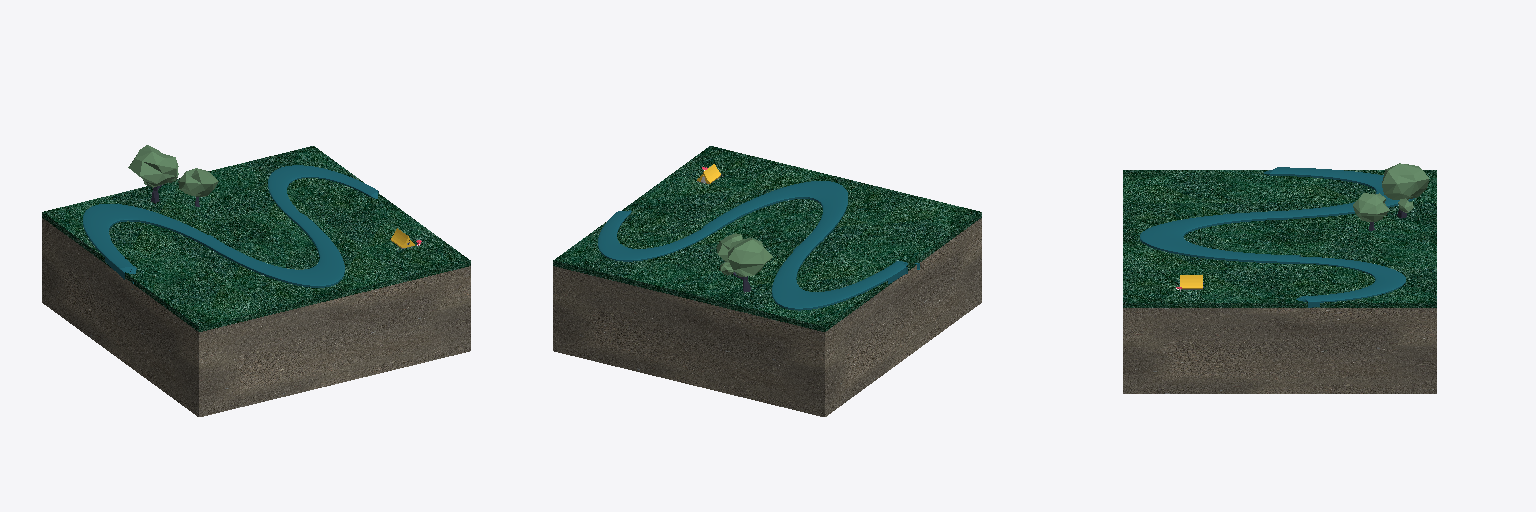
3 renders of one model, left to right at view 1: azimuth 30°, elevation 25°; view 2: azimuth 150°, elevation 25°; view 3: azimuth 270°, elevation 25°, orthographic.
Parts seen in each view (by area): view 1: 001_Box, 000_grass, 002_Tube_-_baked_1_1_&_Tube_-_baked_1_&_Tube_-_baked_2, 015_Crowns, 017_Crown; view 2: 001_Box, 000_grass, 002_Tube_-_baked_1_1_&_Tube_-_baked_1_&_Tube_-_baked_2, 015_Crowns; view 3: 000_grass, 001_Box, 002_Tube_-_baked_1_1_&_Tube_-_baked_1_&_Tube_-_baked_2, 015_Crowns, 017_Crown.
Part boxes in pixels (x1,y1,x2,y2): 001_Box: (42, 218, 470, 416); 000_grass: (42, 146, 470, 331); 002_Tube_-_baked_1_1_&_Tube_-_baked_1_&_Tube_-_baked_2: (83, 165, 378, 289); 015_Crowns: (128, 145, 178, 187); 017_Crown: (178, 168, 218, 196); 001_Box: (553, 218, 981, 416); 000_grass: (553, 146, 981, 331); 002_Tube_-_baked_1_1_&_Tube_-_baked_1_&_Tube_-_baked_2: (598, 181, 919, 310); 015_Crowns: (719, 238, 772, 276); 000_grass: (1123, 170, 1436, 307); 001_Box: (1123, 308, 1436, 393); 002_Tube_-_baked_1_1_&_Tube_-_baked_1_&_Tube_-_baked_2: (1140, 167, 1414, 307); 015_Crowns: (1382, 163, 1428, 212); 017_Crown: (1353, 193, 1389, 221).
Bounding box in the file's own units: 101 × 50.12 × 100.
18 materials, 2 textured.